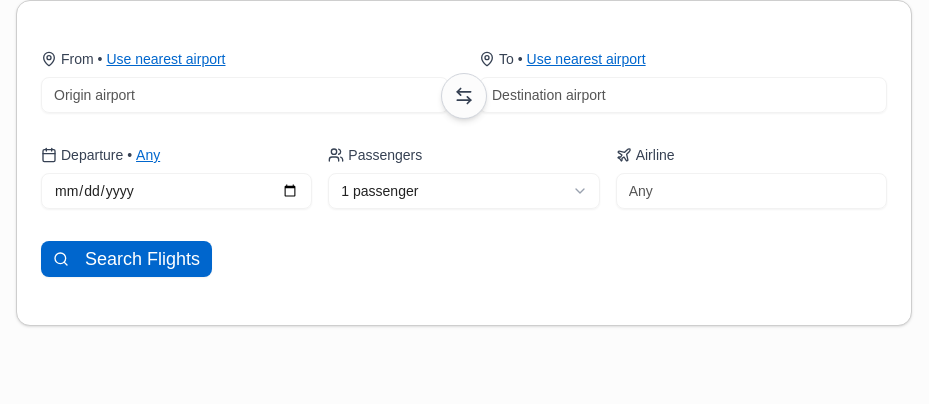
Test: FlightSearchForm › shows validation errors for required fields
This screenshot has width=929, height=404.
Click the button "Search Flights".
click(127, 259)  # box [41,241,212,277]
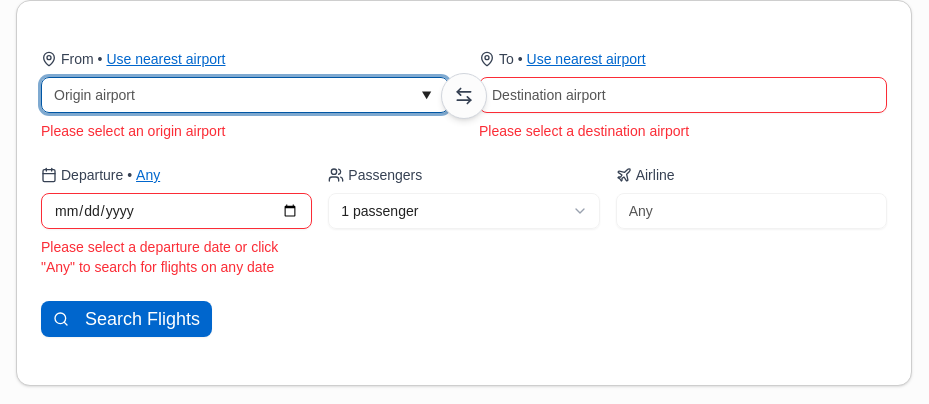
Check: the text "Please select an origin airport" is shown, box [41,123,225,139]
Check: the text "Please select a destination airport" is shown, box [479,123,689,139]
